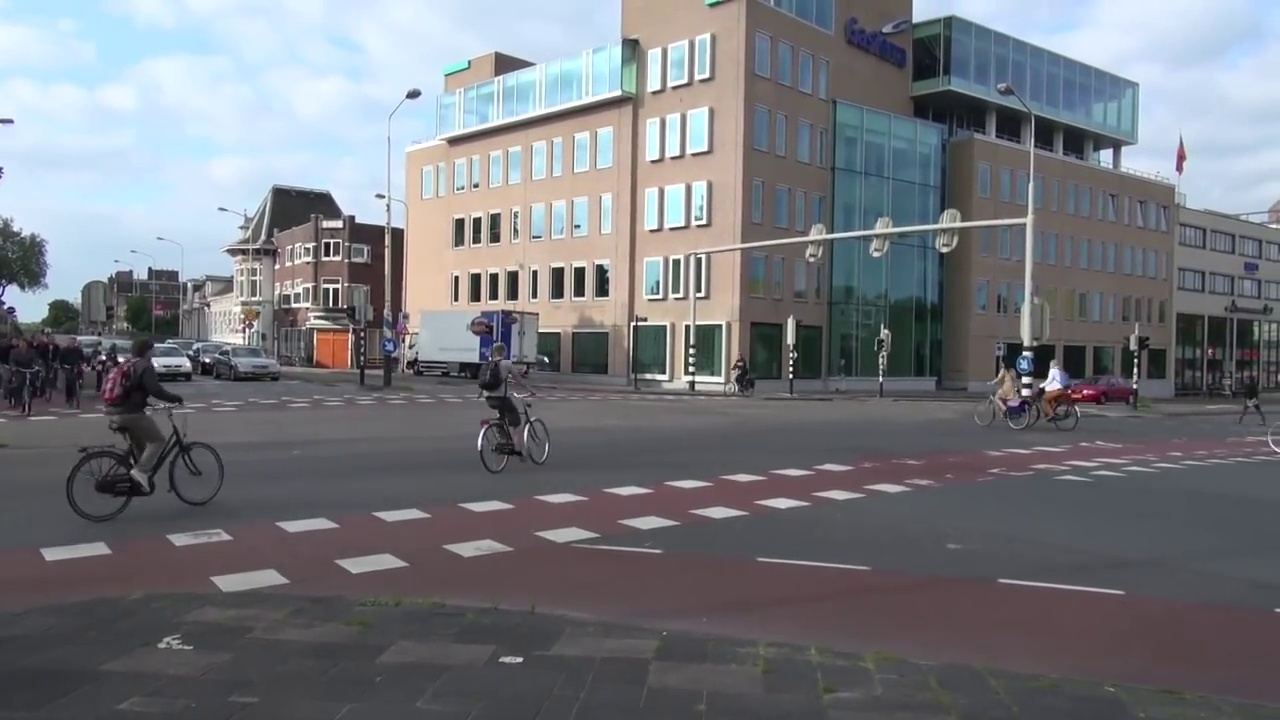cyclist_side: (69, 342, 233, 518), (475, 335, 559, 473), (975, 351, 1032, 431), (1026, 360, 1083, 436)
